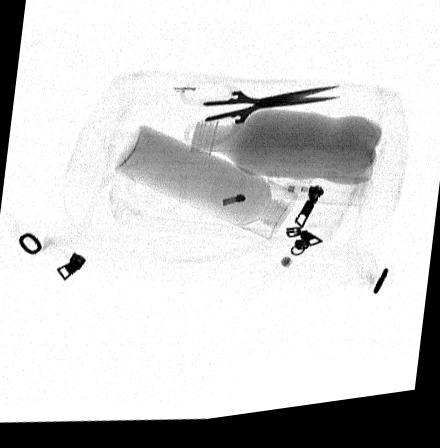Scissors: (176, 80, 346, 160)
